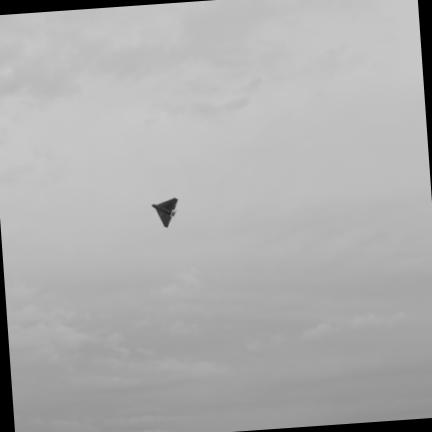Shahed: (152, 198, 176, 226)
